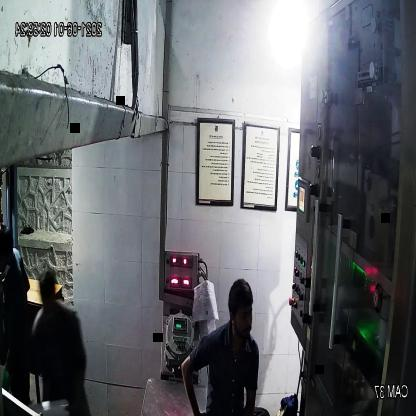no_goggles: (228, 304, 256, 327)
